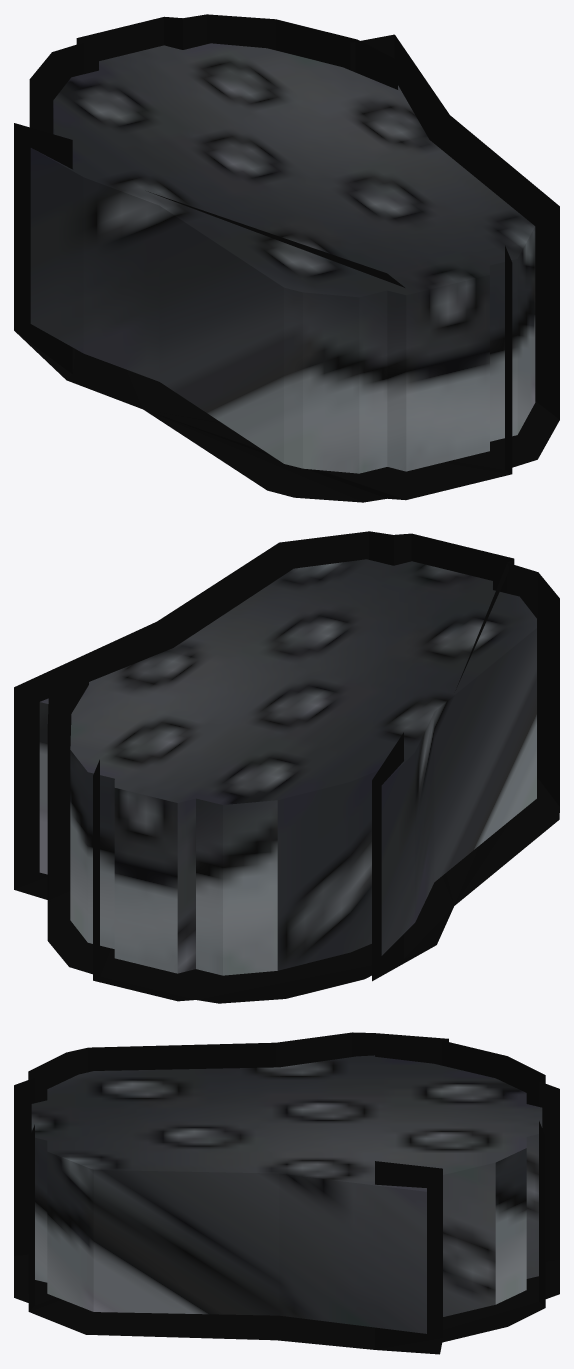
The model's file is Building_LightBall_Things_Building_Misc_Lightball_Lightball.glb.
3 views of the same model, one above another, from view 1: azimuth 30°, elevation 25°; view 2: azimuth 150°, elevation 25°; view 3: azimuth 270°, elevation 25° (orthographic). The views are drawn at different scales.
Visible parts, largest first — view 1: Body, Outline; view 2: Body, Outline; view 3: Body, Outline.
Part boxes in pixels (x1=…): Body: x1=30, y1=43, x2=535, y2=473; Outline: x1=14, y1=14, x2=559, y2=502; Body: x1=39, y1=559, x2=536, y2=975; Outline: x1=14, y1=531, x2=559, y2=1003; Body: x1=31, y1=1055, x2=542, y2=1333; Outline: x1=14, y1=1032, x2=559, y2=1354.
Bounding box in the file's own units: 0.6424 × 0.376 × 0.9849.
Materials: 2 (1 with a texture image).
